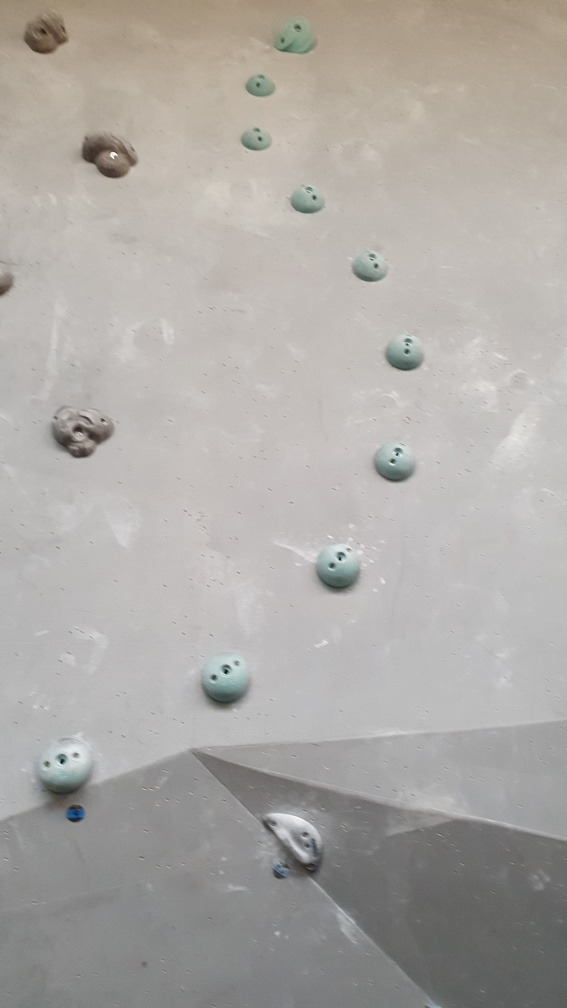Hand Start: (61, 799, 89, 826), (269, 859, 292, 882)
Jug: (76, 121, 142, 184), (50, 401, 122, 457)
Sloper: (34, 731, 97, 795), (201, 648, 252, 709), (314, 539, 363, 592), (372, 441, 419, 487), (384, 335, 427, 372), (287, 181, 329, 215), (349, 249, 389, 282), (237, 124, 275, 152), (245, 73, 278, 100)
